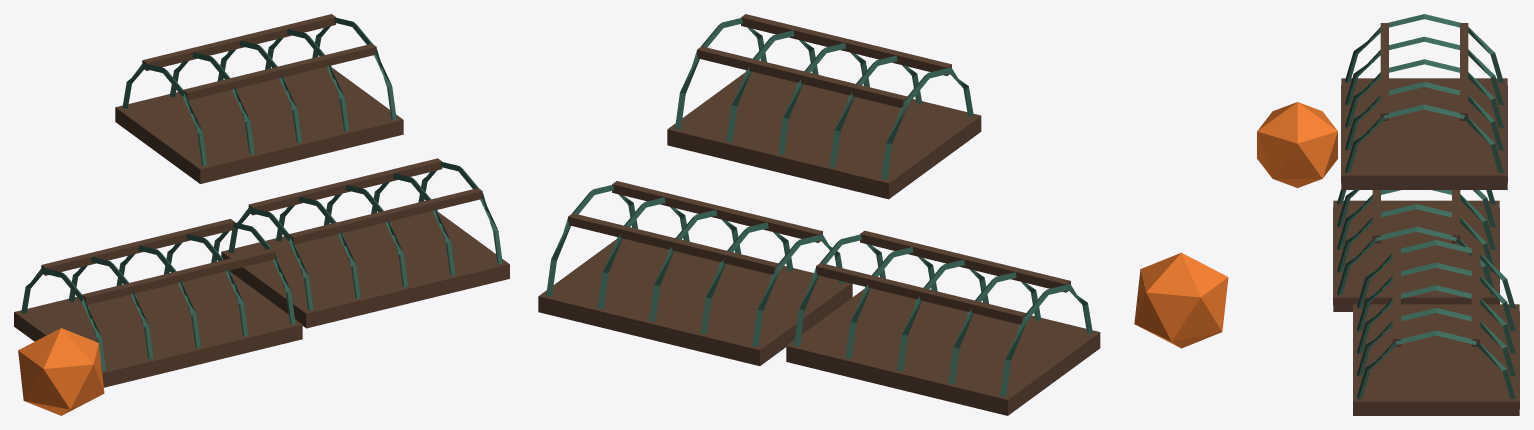
The model's file is lobster_pots.glb.
The picture shows the model from 3 angles, left to right: view 1: azimuth 30°, elevation 25°; view 2: azimuth 150°, elevation 25°; view 3: azimuth 270°, elevation 25°; orthographic projection. The views are drawn at different scales.
Parts seen in each view (by area): view 1: lobster_pots; view 2: lobster_pots; view 3: lobster_pots.
Boxes of the visible parts, box(x1,y1,x2,y2) form: lobster_pots: box(14, 14, 509, 415); lobster_pots: box(538, 14, 1228, 415); lobster_pots: box(1257, 14, 1519, 415).
Size of the model in its own units: 1.47 by 0.7077 by 0.6627.
